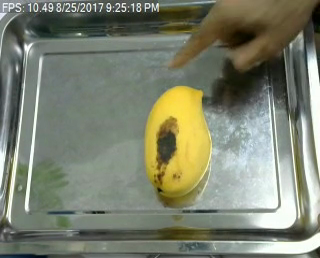Mango: (142, 83, 212, 199)
